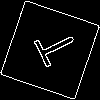T: (25, 25, 80, 73)
